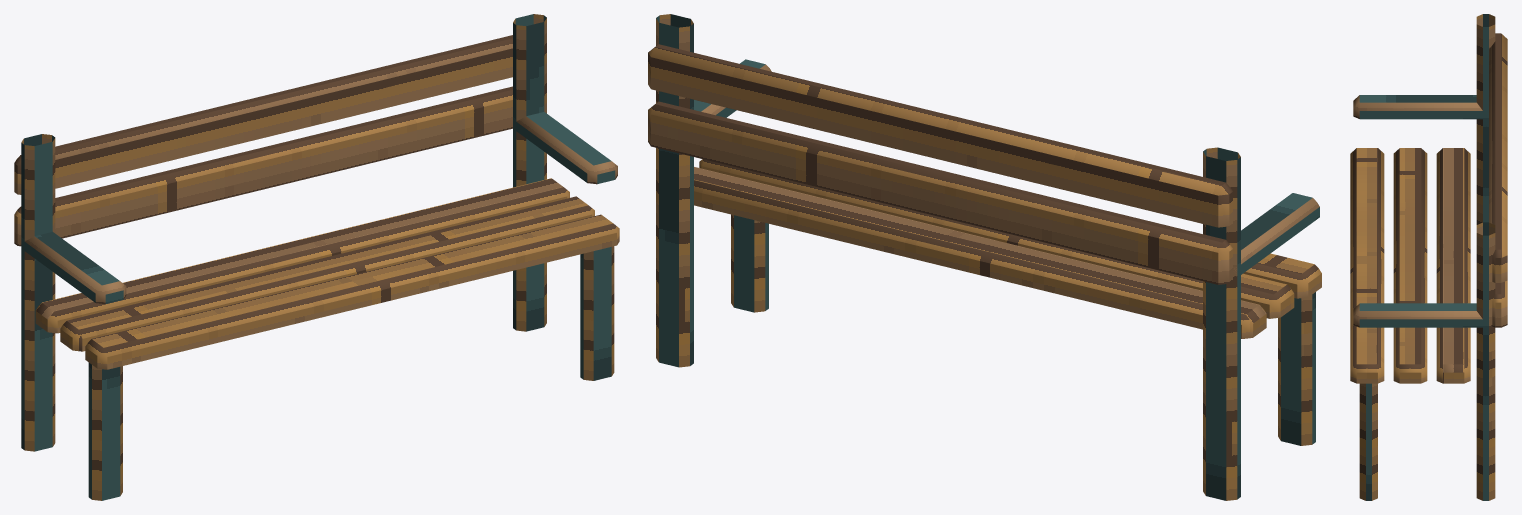
Rendered from bench_1.glb.
3 renders of one model, left to right at view 1: azimuth 30°, elevation 25°; view 2: azimuth 150°, elevation 25°; view 3: azimuth 270°, elevation 25°, orthographic. The views are drawn at different scales.
Parts seen in each view (by area): view 1: bench_2; view 2: bench_2; view 3: bench_2.
Boxes of the visible parts, left/top/right/bottom form: bench_2: left=14, top=14, right=619, bottom=500; bench_2: left=648, top=14, right=1321, bottom=500; bench_2: left=1350, top=14, right=1507, bottom=500.
Size of the model in its own units: 1.7 by 0.95 by 0.51.
2 materials, 2 textured.
